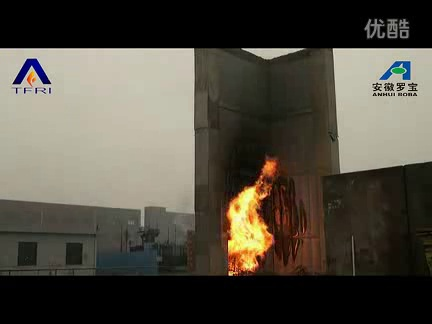fire: (224, 149, 286, 278)
